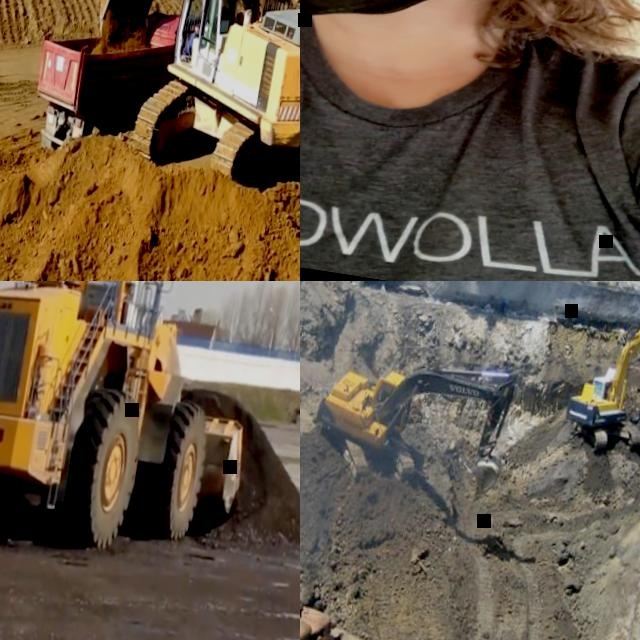NO-Safety Vest: (300, 0, 640, 281)
Person: (300, 0, 640, 281), (184, 17, 212, 60)
machinery: (0, 281, 292, 576), (68, 0, 300, 202), (309, 340, 521, 506), (26, 0, 186, 164), (560, 284, 640, 466)
